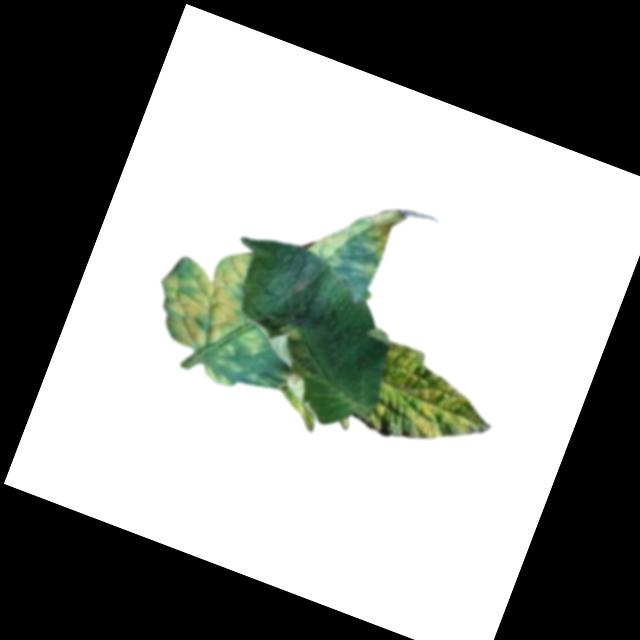Leaf_Mold: (360, 336, 510, 471), (142, 225, 266, 359), (302, 180, 402, 281), (237, 325, 273, 360), (273, 312, 308, 344)
